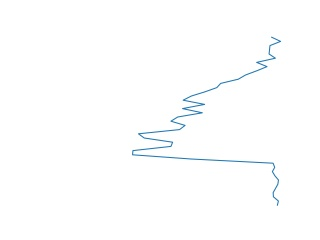proximalDeepseaFan: (128, 35, 283, 209)
